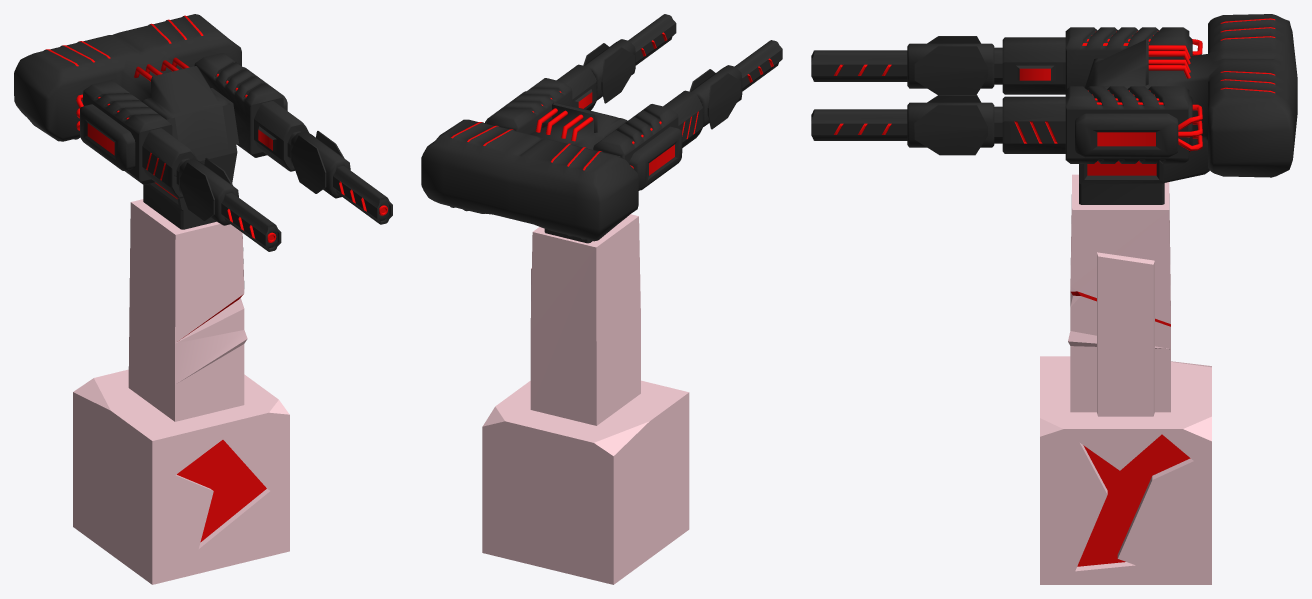
Rendered from Laser_Gun.FBX.
3 renders of one model, left to right at view 1: azimuth 30°, elevation 25°; view 2: azimuth 150°, elevation 25°; view 3: azimuth 270°, elevation 25°, orthographic. The views are drawn at different scales.
Parts seen in each view (by area): view 1: Laser_Gun_Tower, Laser_Gun; view 2: Laser_Gun_Tower, Laser_Gun; view 3: Laser_Gun, Laser_Gun_Tower.
Part boxes in pixels (x1,y1,x2,y2): Laser_Gun_Tower: (73,199,289,584); Laser_Gun: (14,14,392,251); Laser_Gun_Tower: (482,214,689,584); Laser_Gun: (421,14,782,243); Laser_Gun: (811,14,1297,204); Laser_Gun_Tower: (1040,174,1211,584).
Size of the model in its own units: 1.59 by 3.57 by 3.15.
